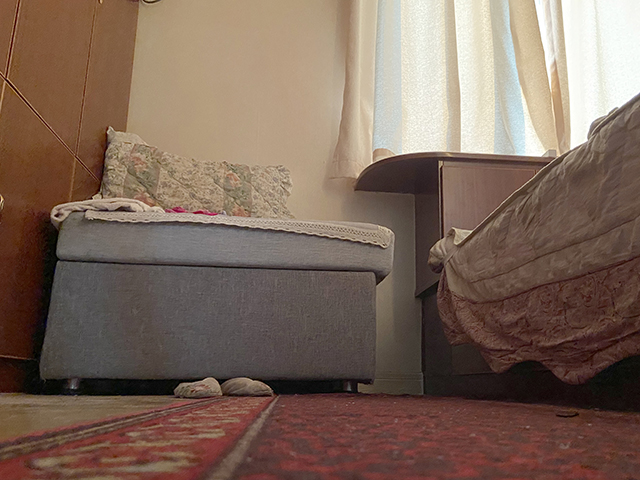bed: (413, 92, 640, 413)
cabinet: (1, 1, 135, 394)
carpet: (1, 393, 640, 480)
curtain: (346, 1, 561, 178)
stool: (38, 204, 395, 395)
